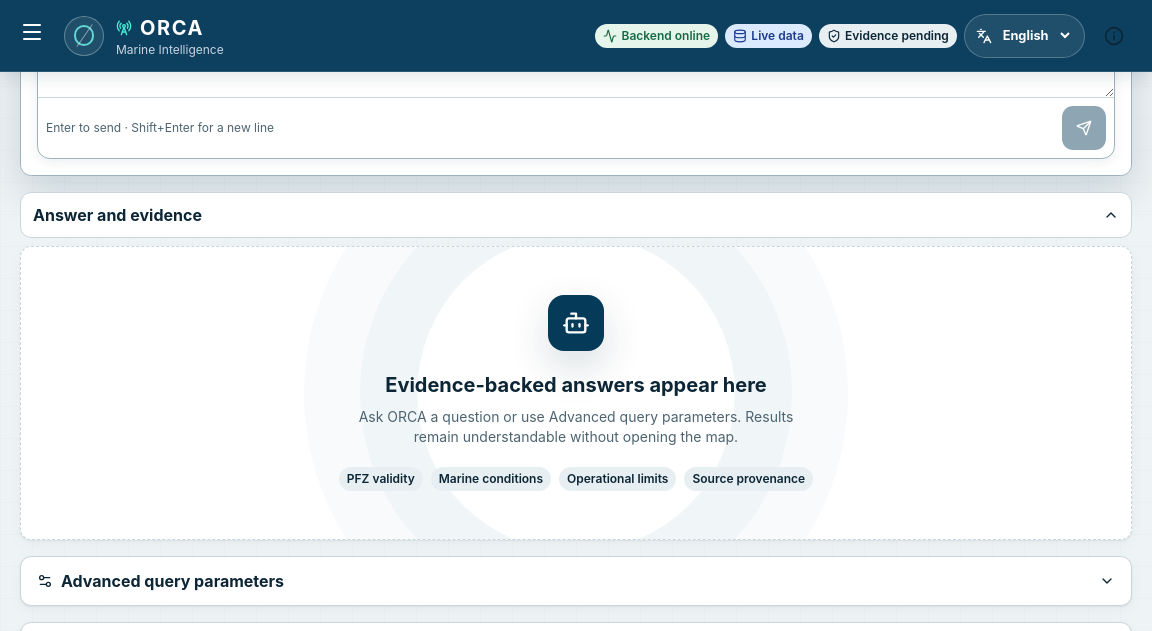
Test: advanced form validation produces a conversation clarification without losing fields
(page scrolled)
Step 1. Click the button "Advanced query parameters" → coordinates (173, 581), box 20,556 -> 1132,606
(page scrolled)
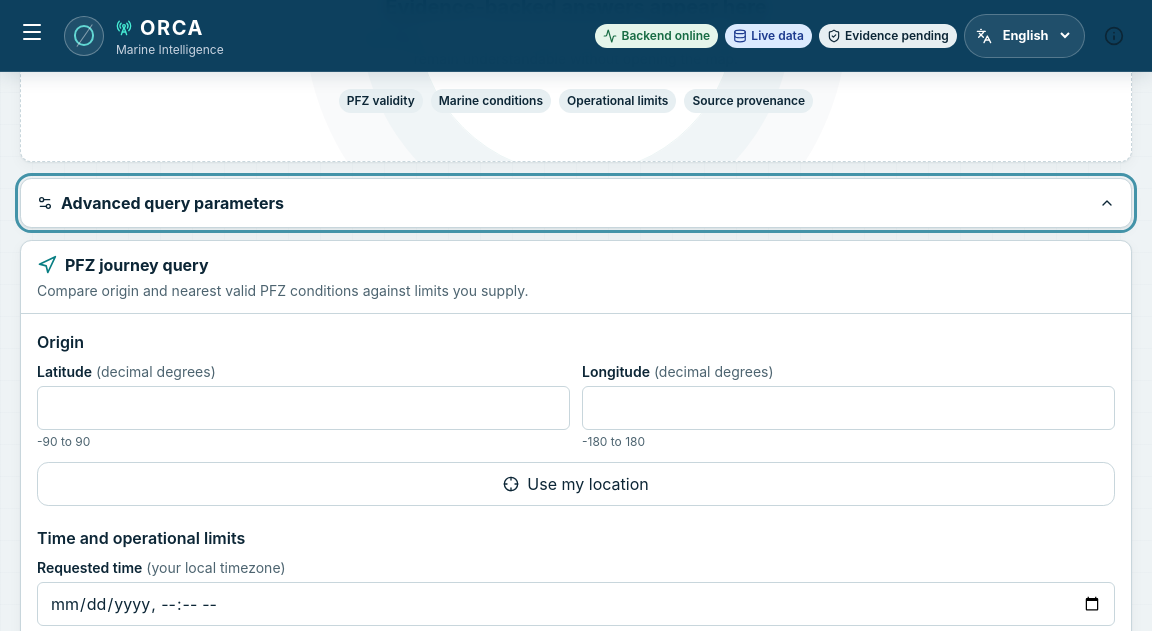
Step 2. Type "91" into the field with id "latitude" → coordinates (304, 408), box 37,386 -> 570,430
(page scrolled)
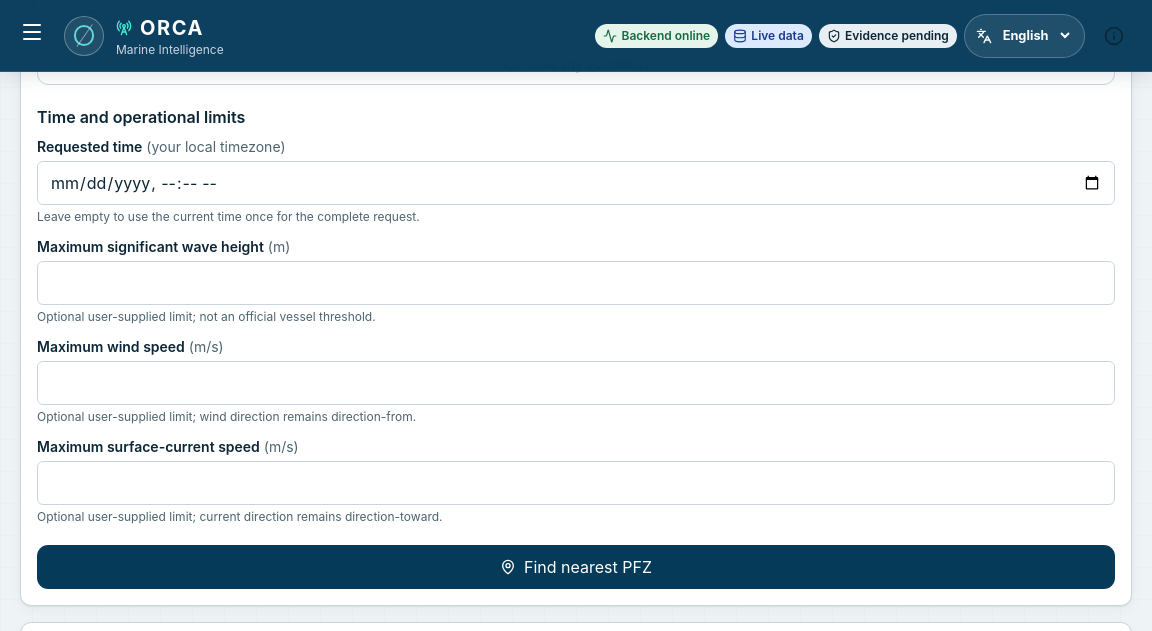
Step 3. Click the button "Find nearest PFZ" → coordinates (576, 567), box 37,545 -> 1115,589
(page scrolled)
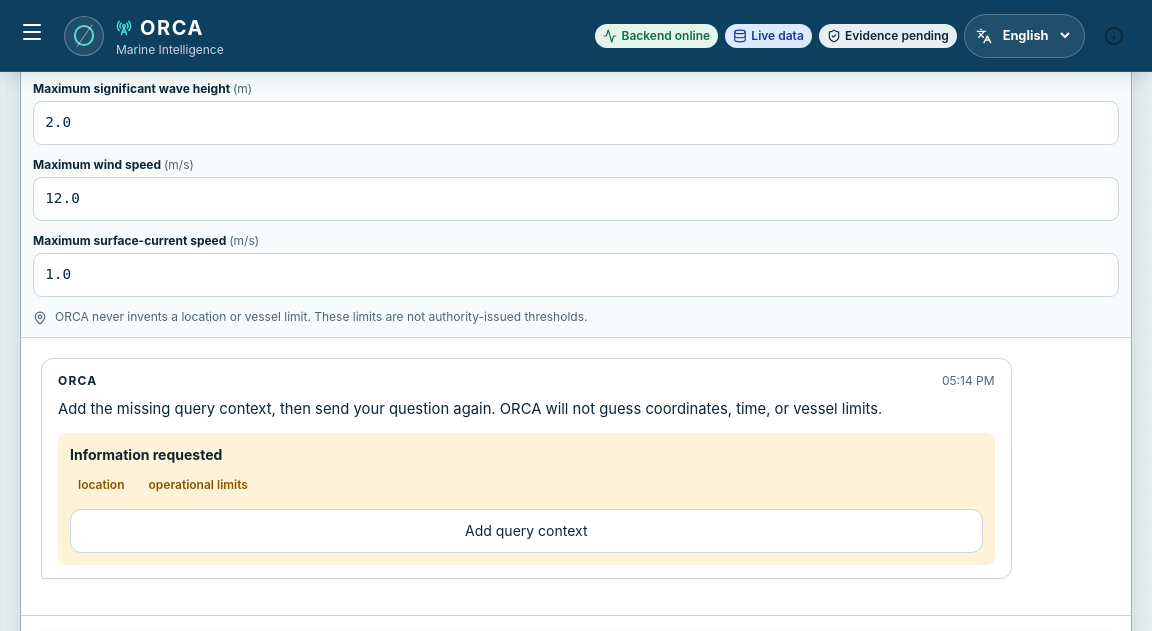
Expected: the text "Add the missing query context" is shown, 58,400 -> 882,418
